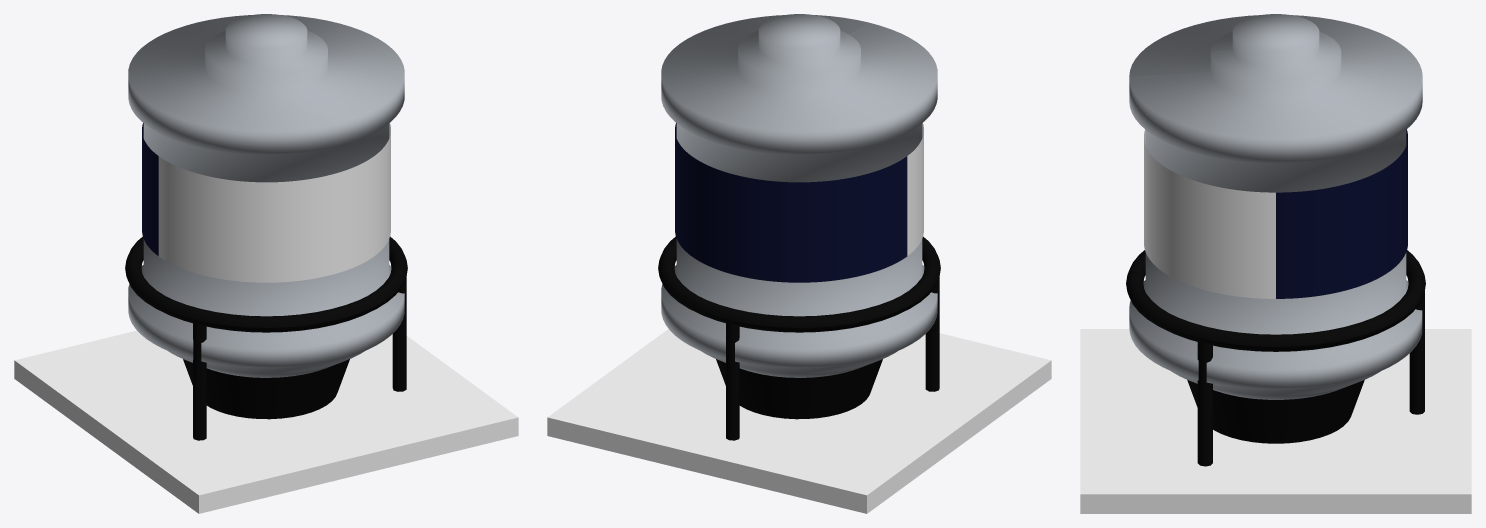
The model's file is Sonardyne_SPRINT-Nav_Cradle.obj.
3 renders of one model, left to right at view 1: azimuth 30°, elevation 25°; view 2: azimuth 150°, elevation 25°; view 3: azimuth 270°, elevation 25°, orthographic. The views are drawn at different scales.
Parts seen in each view (by area): view 1: Sonardyne_SPRINT-Nav_Cradle_02, Sonardyne_SPRINT-Nav_Cradle_08, Sonardyne_SPRINT-Nav_Cradle_01, Sonardyne_SPRINT-Nav_Cradle_06, Sonardyne_SPRINT-Nav_Cradle_07, Sonardyne_SPRINT-Nav_Cradle_00, Sonardyne_SPRINT-Nav_Cradle_04, Sonardyne_SPRINT-Nav_Cradle_05; view 2: Sonardyne_SPRINT-Nav_Cradle_02, Sonardyne_SPRINT-Nav_Cradle_08, Sonardyne_SPRINT-Nav_Cradle_00, Sonardyne_SPRINT-Nav_Cradle_06, Sonardyne_SPRINT-Nav_Cradle_07, Sonardyne_SPRINT-Nav_Cradle_01, Sonardyne_SPRINT-Nav_Cradle_03, Sonardyne_SPRINT-Nav_Cradle_04; view 3: Sonardyne_SPRINT-Nav_Cradle_02, Sonardyne_SPRINT-Nav_Cradle_08, Sonardyne_SPRINT-Nav_Cradle_00, Sonardyne_SPRINT-Nav_Cradle_01, Sonardyne_SPRINT-Nav_Cradle_06, Sonardyne_SPRINT-Nav_Cradle_07, Sonardyne_SPRINT-Nav_Cradle_05, Sonardyne_SPRINT-Nav_Cradle_03.
Part boxes in pixels (left/top/right/bottom): Sonardyne_SPRINT-Nav_Cradle_02: left=128, top=14, right=404, bottom=377; Sonardyne_SPRINT-Nav_Cradle_08: left=14, top=330, right=518, bottom=513; Sonardyne_SPRINT-Nav_Cradle_01: left=158, top=123, right=390, bottom=282; Sonardyne_SPRINT-Nav_Cradle_06: left=125, top=236, right=407, bottom=332; Sonardyne_SPRINT-Nav_Cradle_07: left=183, top=359, right=349, bottom=419; Sonardyne_SPRINT-Nav_Cradle_00: left=142, top=123, right=158, bottom=255; Sonardyne_SPRINT-Nav_Cradle_04: left=193, top=323, right=206, bottom=440; Sonardyne_SPRINT-Nav_Cradle_05: left=392, top=277, right=406, bottom=391; Sonardyne_SPRINT-Nav_Cradle_02: left=661, top=14, right=937, bottom=377; Sonardyne_SPRINT-Nav_Cradle_08: left=547, top=329, right=1051, bottom=513; Sonardyne_SPRINT-Nav_Cradle_00: left=675, top=123, right=907, bottom=282; Sonardyne_SPRINT-Nav_Cradle_06: left=658, top=236, right=940, bottom=332; Sonardyne_SPRINT-Nav_Cradle_07: left=716, top=359, right=882, bottom=419; Sonardyne_SPRINT-Nav_Cradle_01: left=907, top=123, right=923, bottom=255; Sonardyne_SPRINT-Nav_Cradle_03: left=726, top=322, right=739, bottom=440; Sonardyne_SPRINT-Nav_Cradle_04: left=925, top=277, right=939, bottom=391; Sonardyne_SPRINT-Nav_Cradle_02: left=1129, top=14, right=1422, bottom=399; Sonardyne_SPRINT-Nav_Cradle_08: left=1080, top=329, right=1471, bottom=513; Sonardyne_SPRINT-Nav_Cradle_00: left=1276, top=129, right=1407, bottom=298; Sonardyne_SPRINT-Nav_Cradle_01: left=1144, top=129, right=1275, bottom=298; Sonardyne_SPRINT-Nav_Cradle_06: left=1126, top=250, right=1425, bottom=351; Sonardyne_SPRINT-Nav_Cradle_07: left=1187, top=380, right=1364, bottom=443; Sonardyne_SPRINT-Nav_Cradle_05: left=1197, top=341, right=1212, bottom=466; Sonardyne_SPRINT-Nav_Cradle_03: left=1409, top=291, right=1424, bottom=414.
Bounding box in the file's own units: 36 × 40.5 × 36.
